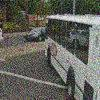buses: (42, 11, 100, 99)
